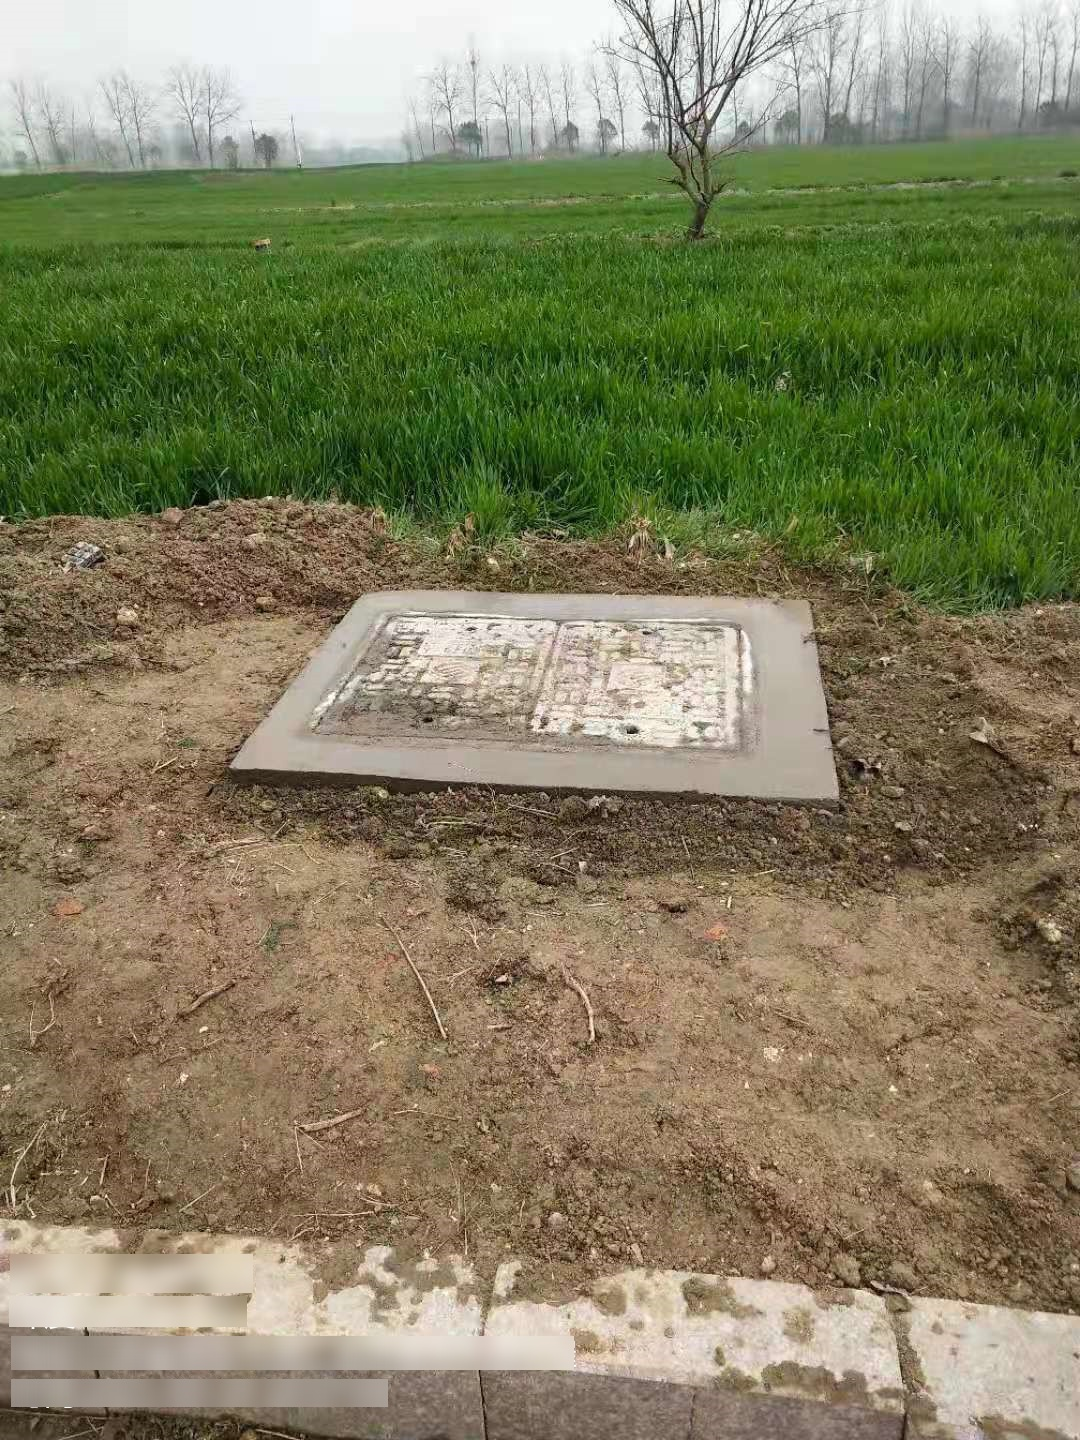well: (301, 605, 763, 764)
